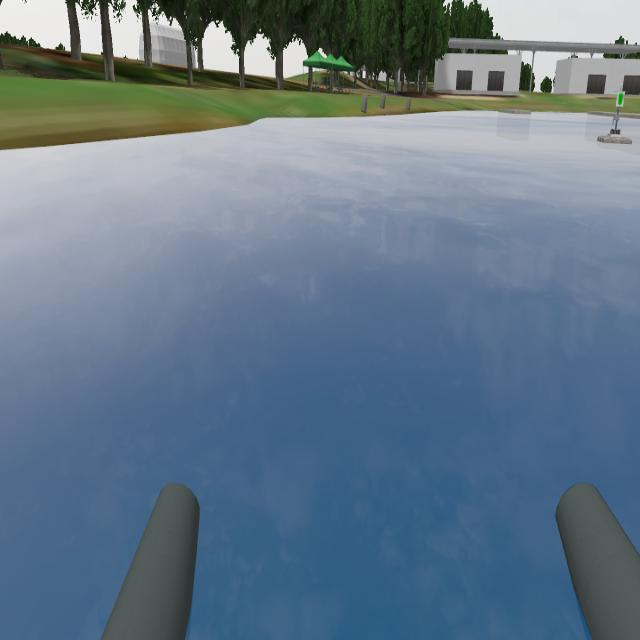green_pole: (614, 87, 632, 113)
